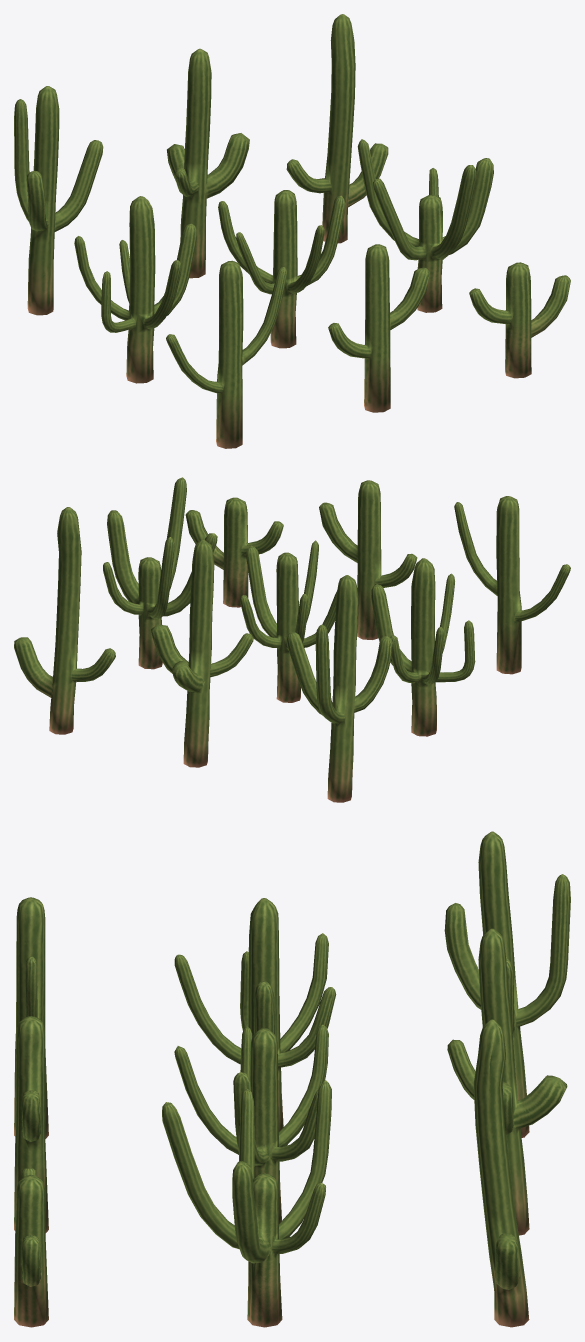
The model's file is cactus__pack.glb.
3 views of the same model, one above another, from view 1: azimuth 30°, elevation 25°; view 2: azimuth 150°, elevation 25°; view 3: azimuth 270°, elevation 25° (orthographic). The views are drawn at different scales.
Visible parts, largest first — view 1: cactus_9, cactus_6, cactus_4, cactus_8, cactus_5, cactus_3, cactus_7, cactus_2, cactus_1; view 2: cactus_9, cactus_6, cactus_8, cactus_7, cactus_4, cactus_5, cactus_3, cactus_2, cactus_1; view 3: cactus_4, cactus_6, cactus_5, cactus_7, cactus_9, cactus_8, cactus_2, cactus_1, cactus_3.
Boxes of the visible parts, <box> form: cactus_9: <box>14,86,103,315</box>; cactus_6: <box>74,196,196,383</box>; cactus_4: <box>357,139,493,312</box>; cactus_8: <box>167,48,249,278</box>; cactus_5: <box>218,190,345,348</box>; cactus_3: <box>166,260,287,448</box>; cactus_7: <box>286,14,388,243</box>; cactus_2: <box>328,244,429,412</box>; cactus_1: <box>469,262,570,378</box>; cactus_9: <box>286,575,392,802</box>; cactus_6: <box>371,558,475,736</box>; cactus_8: <box>151,540,253,767</box>; cactus_7: <box>14,507,115,734</box>; cactus_4: <box>103,477,217,669</box>; cactus_5: <box>240,540,337,702</box>; cactus_3: <box>454,496,570,674</box>; cactus_2: <box>319,480,417,639</box>; cactus_1: <box>185,497,283,607</box>; cactus_4: <box>162,1080,331,1327</box>; cactus_6: <box>174,898,336,1131</box>; cactus_5: <box>174,1024,328,1223</box>; cactus_7: <box>473,1019,529,1327</box>; cactus_9: <box>444,831,570,1137</box>; cactus_8: <box>447,928,567,1235</box>; cactus_2: <box>14,1016,48,1232</box>; cactus_1: <box>14,1168,48,1327</box>; cactus_3: <box>14,897,48,1138</box>.
Size of the model in its own units: 7.66 by 4.12 by 6.94.
Materials: 9 (9 with a texture image).
